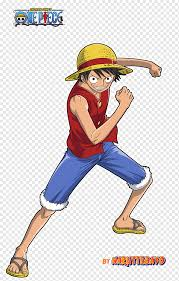luffy: (62, 42, 134, 97)
